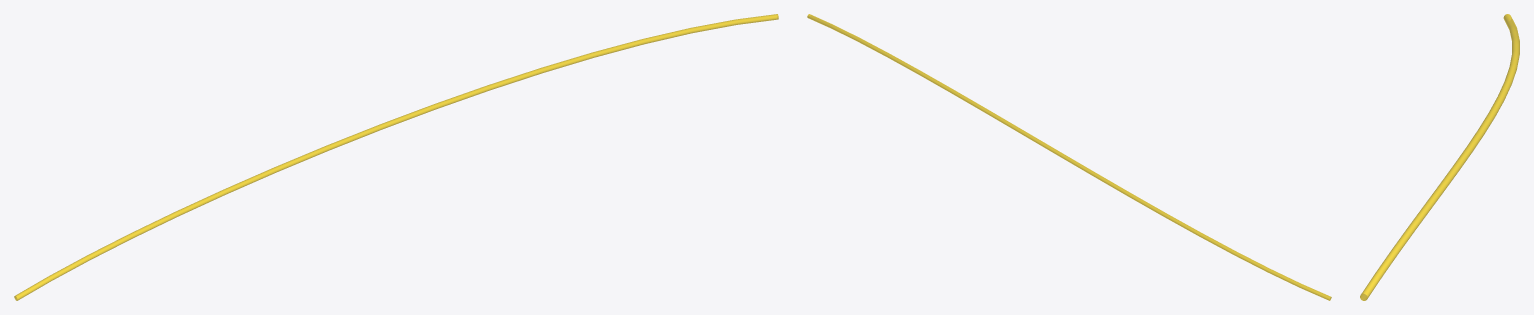
The model's file is Event_17758602_track_70.fbx.
3 views of the same model, side by side, from view 1: azimuth 30°, elevation 25°; view 2: azimuth 150°, elevation 25°; view 3: azimuth 270°, elevation 25° (orthographic). The views are drawn at different scales.
Parts seen in each view (by area): view 1: Model; view 2: Model; view 3: Model.
Boxes of the visible parts, x1,y1,x2,y2 form: Model: (14, 14, 778, 300); Model: (807, 14, 1331, 300); Model: (1360, 14, 1519, 300).
Size of the model in its own units: 5.81 by 1.18 by 0.8119.
